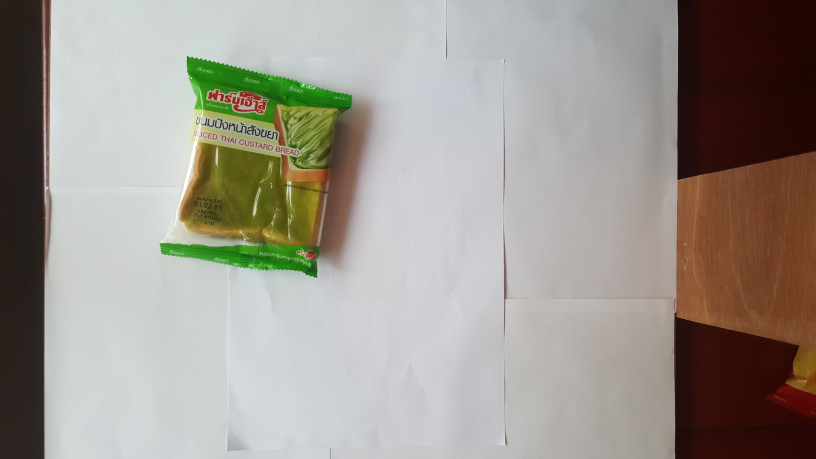farmhouse-bread-pandan: (160, 52, 355, 285)
